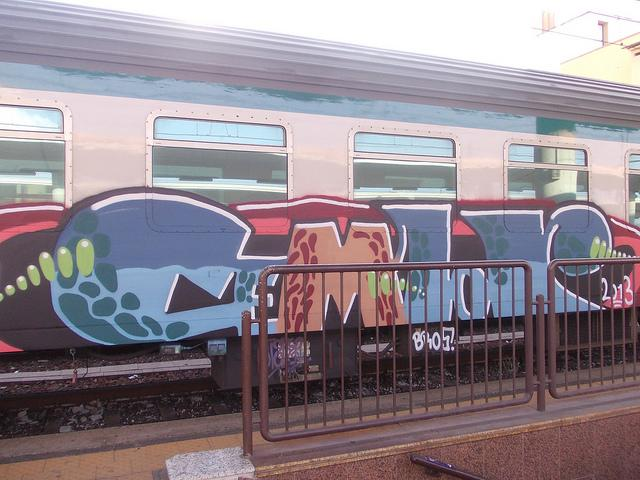Train: (0, 0, 640, 444)
